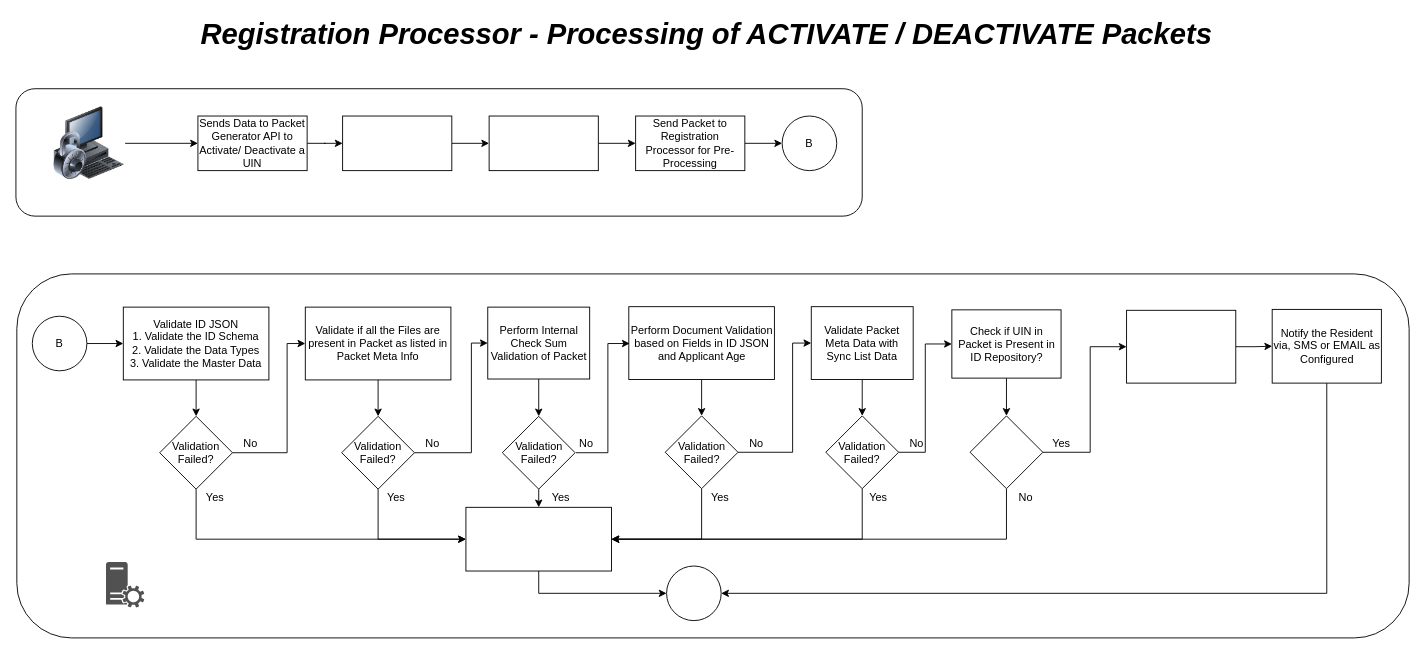
Image size: 1425x653. Some labels were removed from this diagram. The shapes that lost their labels are listed below. From the top down, each one's centre as x and y in pixels, then its label:
pixel 88 142: External System
pixel 397 143: Packet Generator API
pixel 543 143: Generates Activate or Deactivate UIN Packets
pixel 1181 346: Activate/Deactivate the Resident based on Packet Type in ID Repository
pixel 1006 452: UIN is present?
pixel 538 538: Reject the Packet and Notify the Resident. Set Overall Status as "FAILED"
pixel 125 584: Registration Processor
pixel 693 593: Stop
